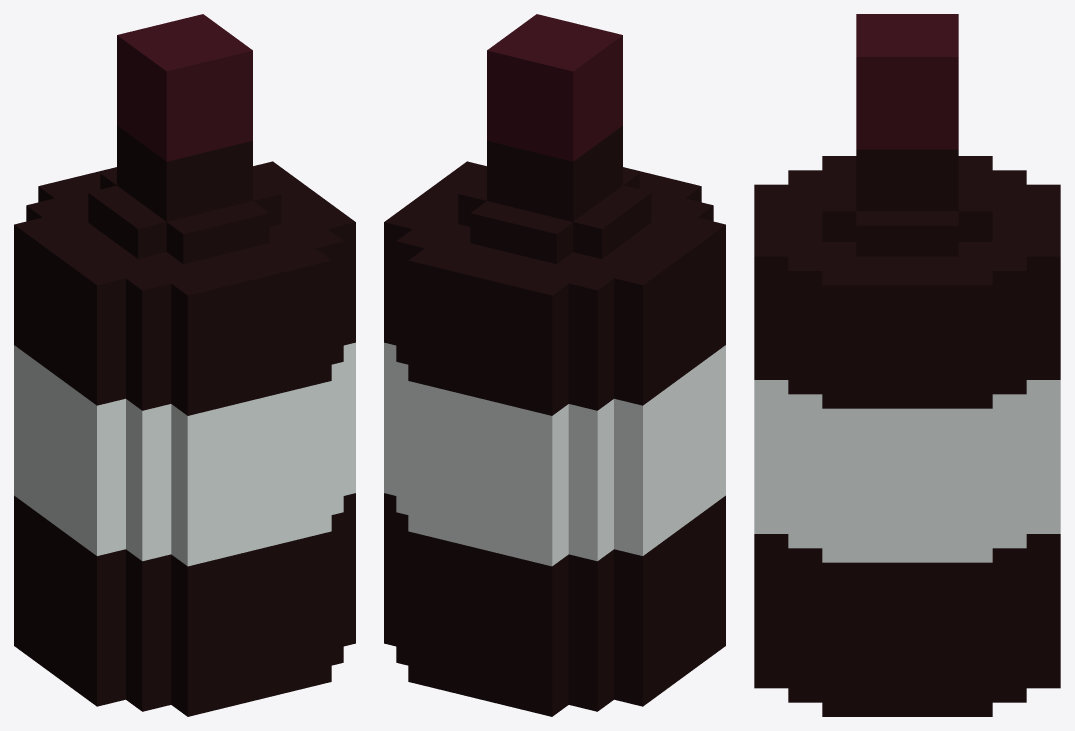
Rendered from Vin2.obj.
The picture shows the model from 3 angles, left to right: view 1: azimuth 30°, elevation 25°; view 2: azimuth 150°, elevation 25°; view 3: azimuth 270°, elevation 25°; orthographic projection. The views are drawn at different scales.
Visible parts, largest first — view 1: Vin2; view 2: Vin2; view 3: Vin2.
Part boxes in pixels (x1,y1,x2,y2): Vin2: (14, 14, 355, 716); Vin2: (384, 14, 725, 716); Vin2: (754, 14, 1060, 716).
Bounding box in the file's own units: 9 × 20 × 9.
1 material, 1 textured.
